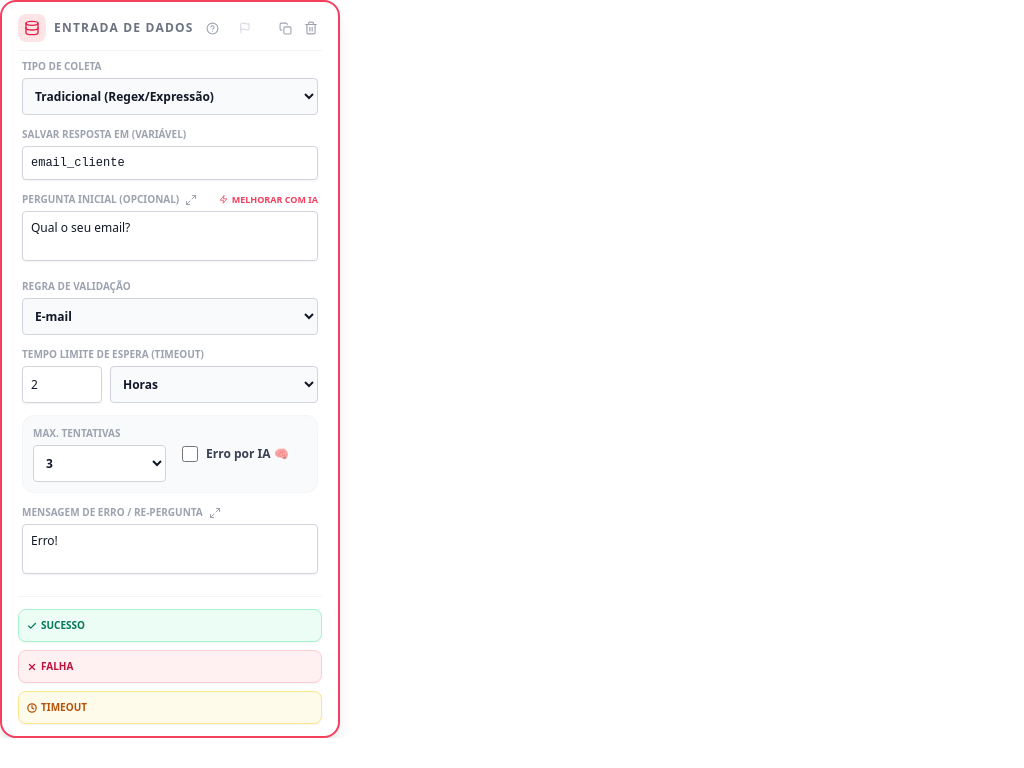
InputDataNode › abre o modal de maximizar ao clicar no botão correspondente
The image size is (1024, 768).
Expected: the text "Confirmar" is not shown
What coordinates should you click on to do the following:
click the button titled "Maximizar" next to "Pergunta Inicial (Opcional)"
I would click on:
 (191, 200)
Its box is left=185, top=194, right=197, bottom=206.
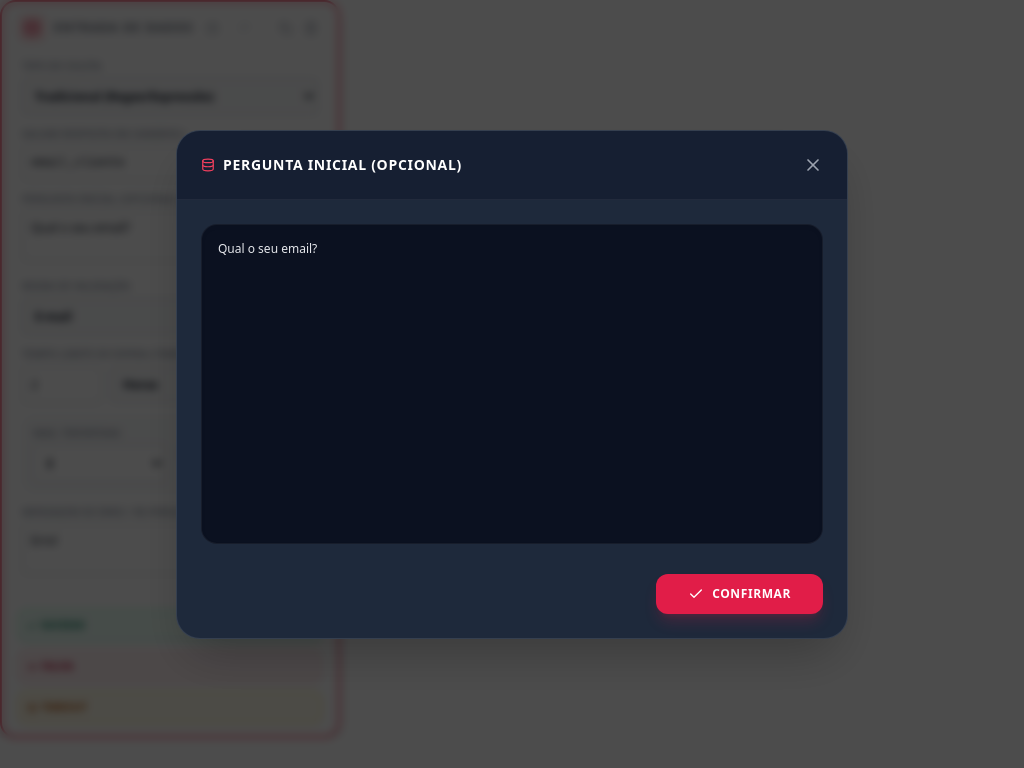
Expected: the button "Confirmar" is shown
What coordinates should you click on to do the following:
click the button "Confirmar"
I would click on:
 (740, 594)
Its box is left=656, top=574, right=823, bottom=614.
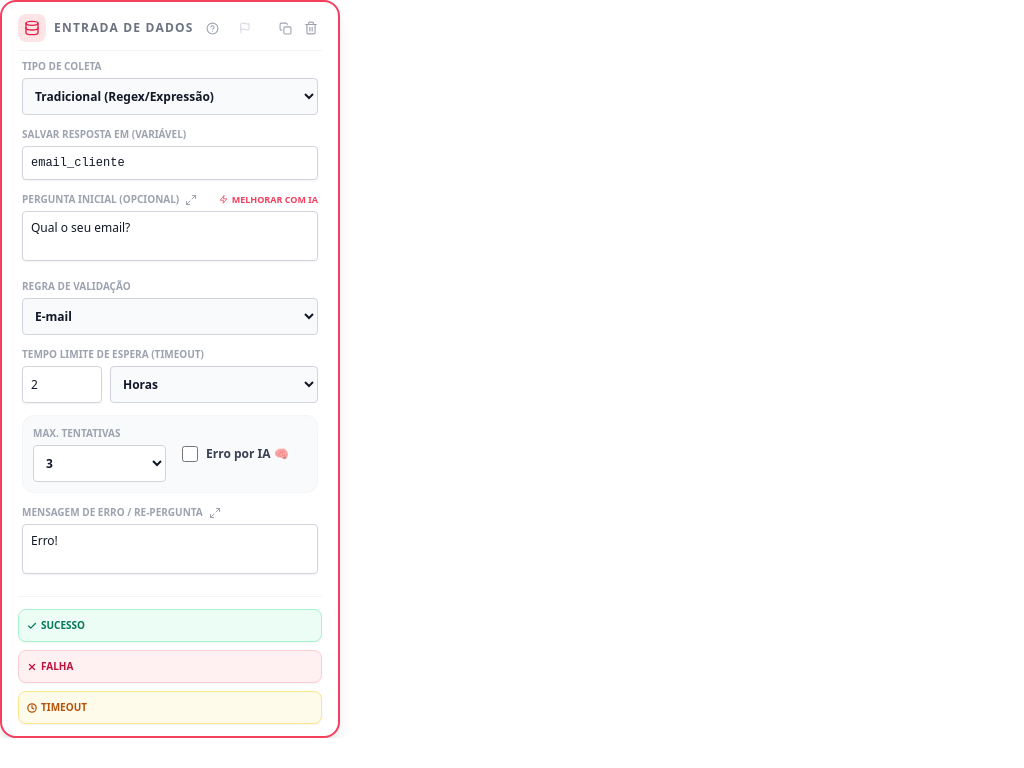
Expected: the button "Confirmar" is gone
